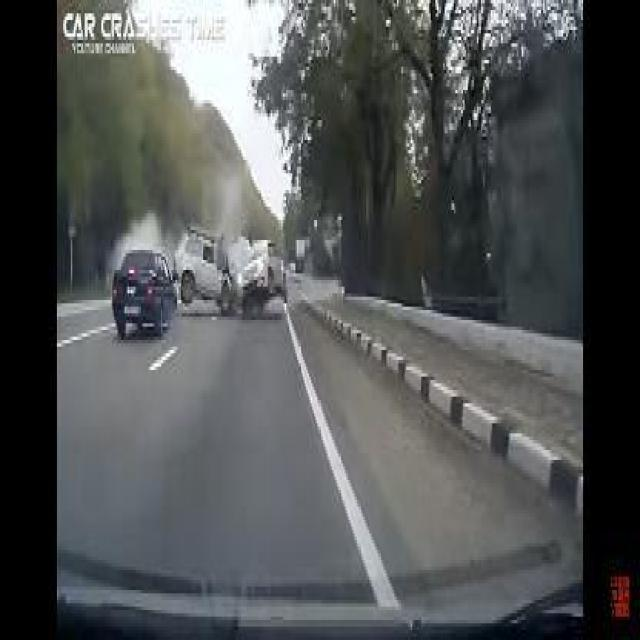accident: (174, 220, 289, 320)
